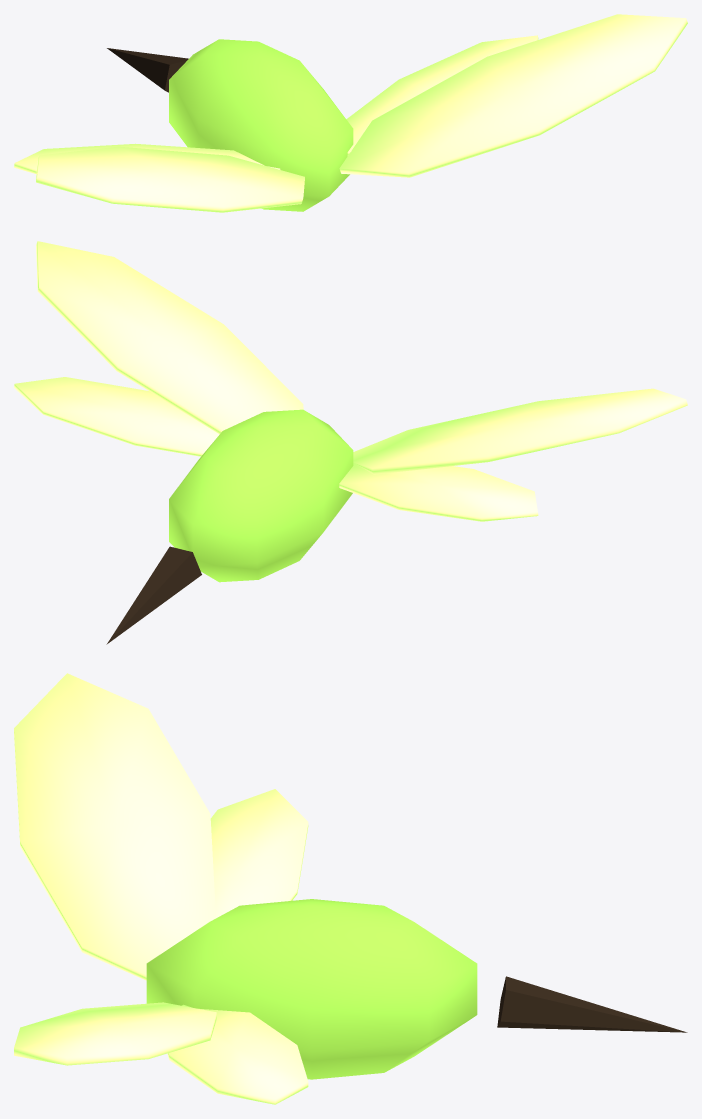
The model's file is insect_wings.glb.
3 views of the same model, one above another, from view 1: azimuth 30°, elevation 25°; view 2: azimuth 150°, elevation 25°; view 3: azimuth 270°, elevation 25° (orthographic). The views are drawn at different scales.
Visible parts, largest first — view 1: part.insect_wings; view 2: part.insect_wings; view 3: part.insect_wings.
Part boxes in pixels (left/top/right/bottom): part.insect_wings: left=14, top=14, right=687, bottom=212; part.insect_wings: left=14, top=241, right=687, bottom=644; part.insect_wings: left=14, top=673, right=687, bottom=1104.
Bounding box in the file's own units: 1.16 × 0.2908 × 0.857.
